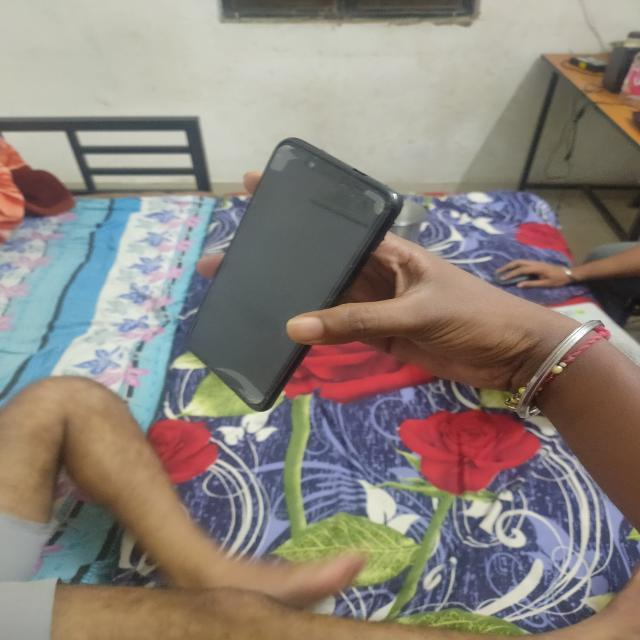Phone: (182, 132, 409, 415)
